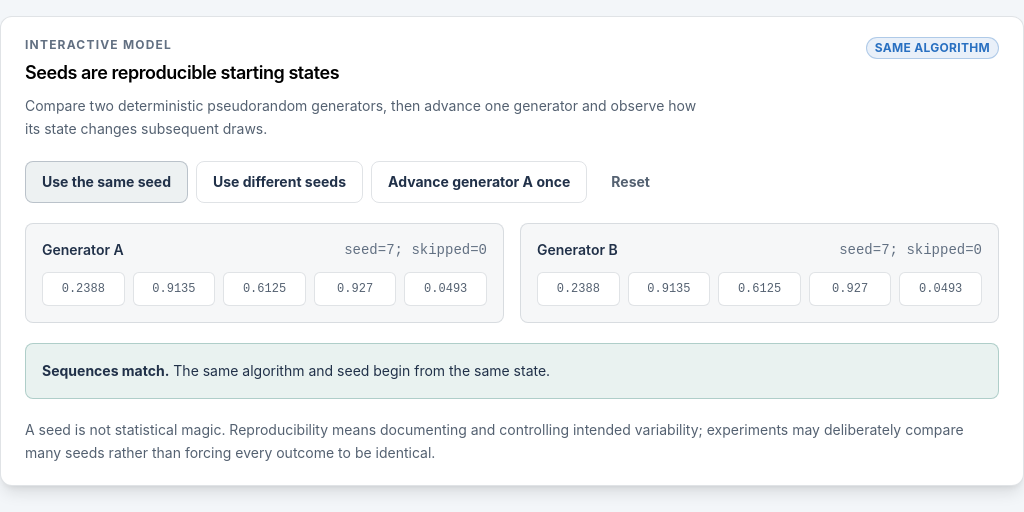
Test: Jupyter experiment interactives › shows that advancing one same-seed generator changes later draws
Check: the message shows "Sequences match", box 42,362 -> 169,378
Click the button "Advance generator A once" at (479, 182), box 371,160 -> 587,202
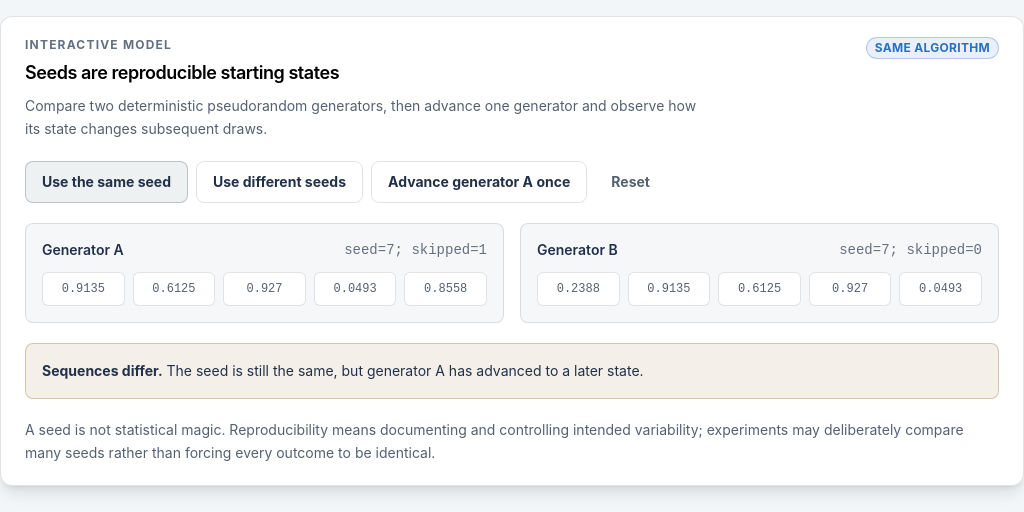
Check: the message shows "later state", box 166,362 -> 644,378
